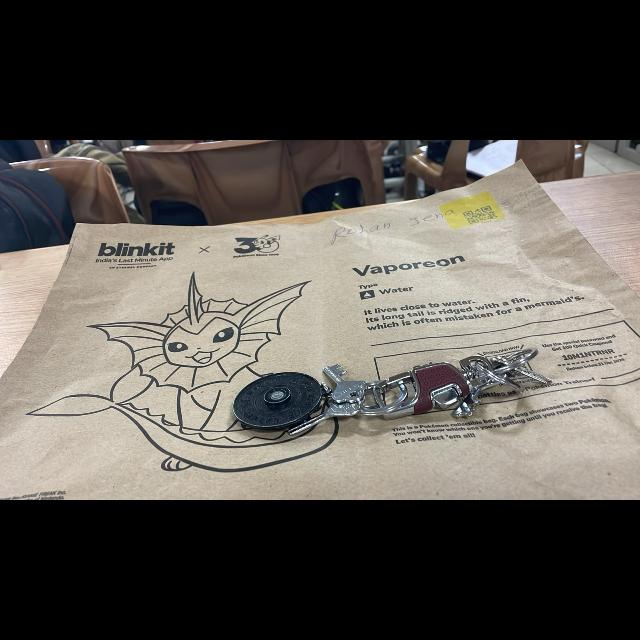keys: (210, 315, 560, 447)
